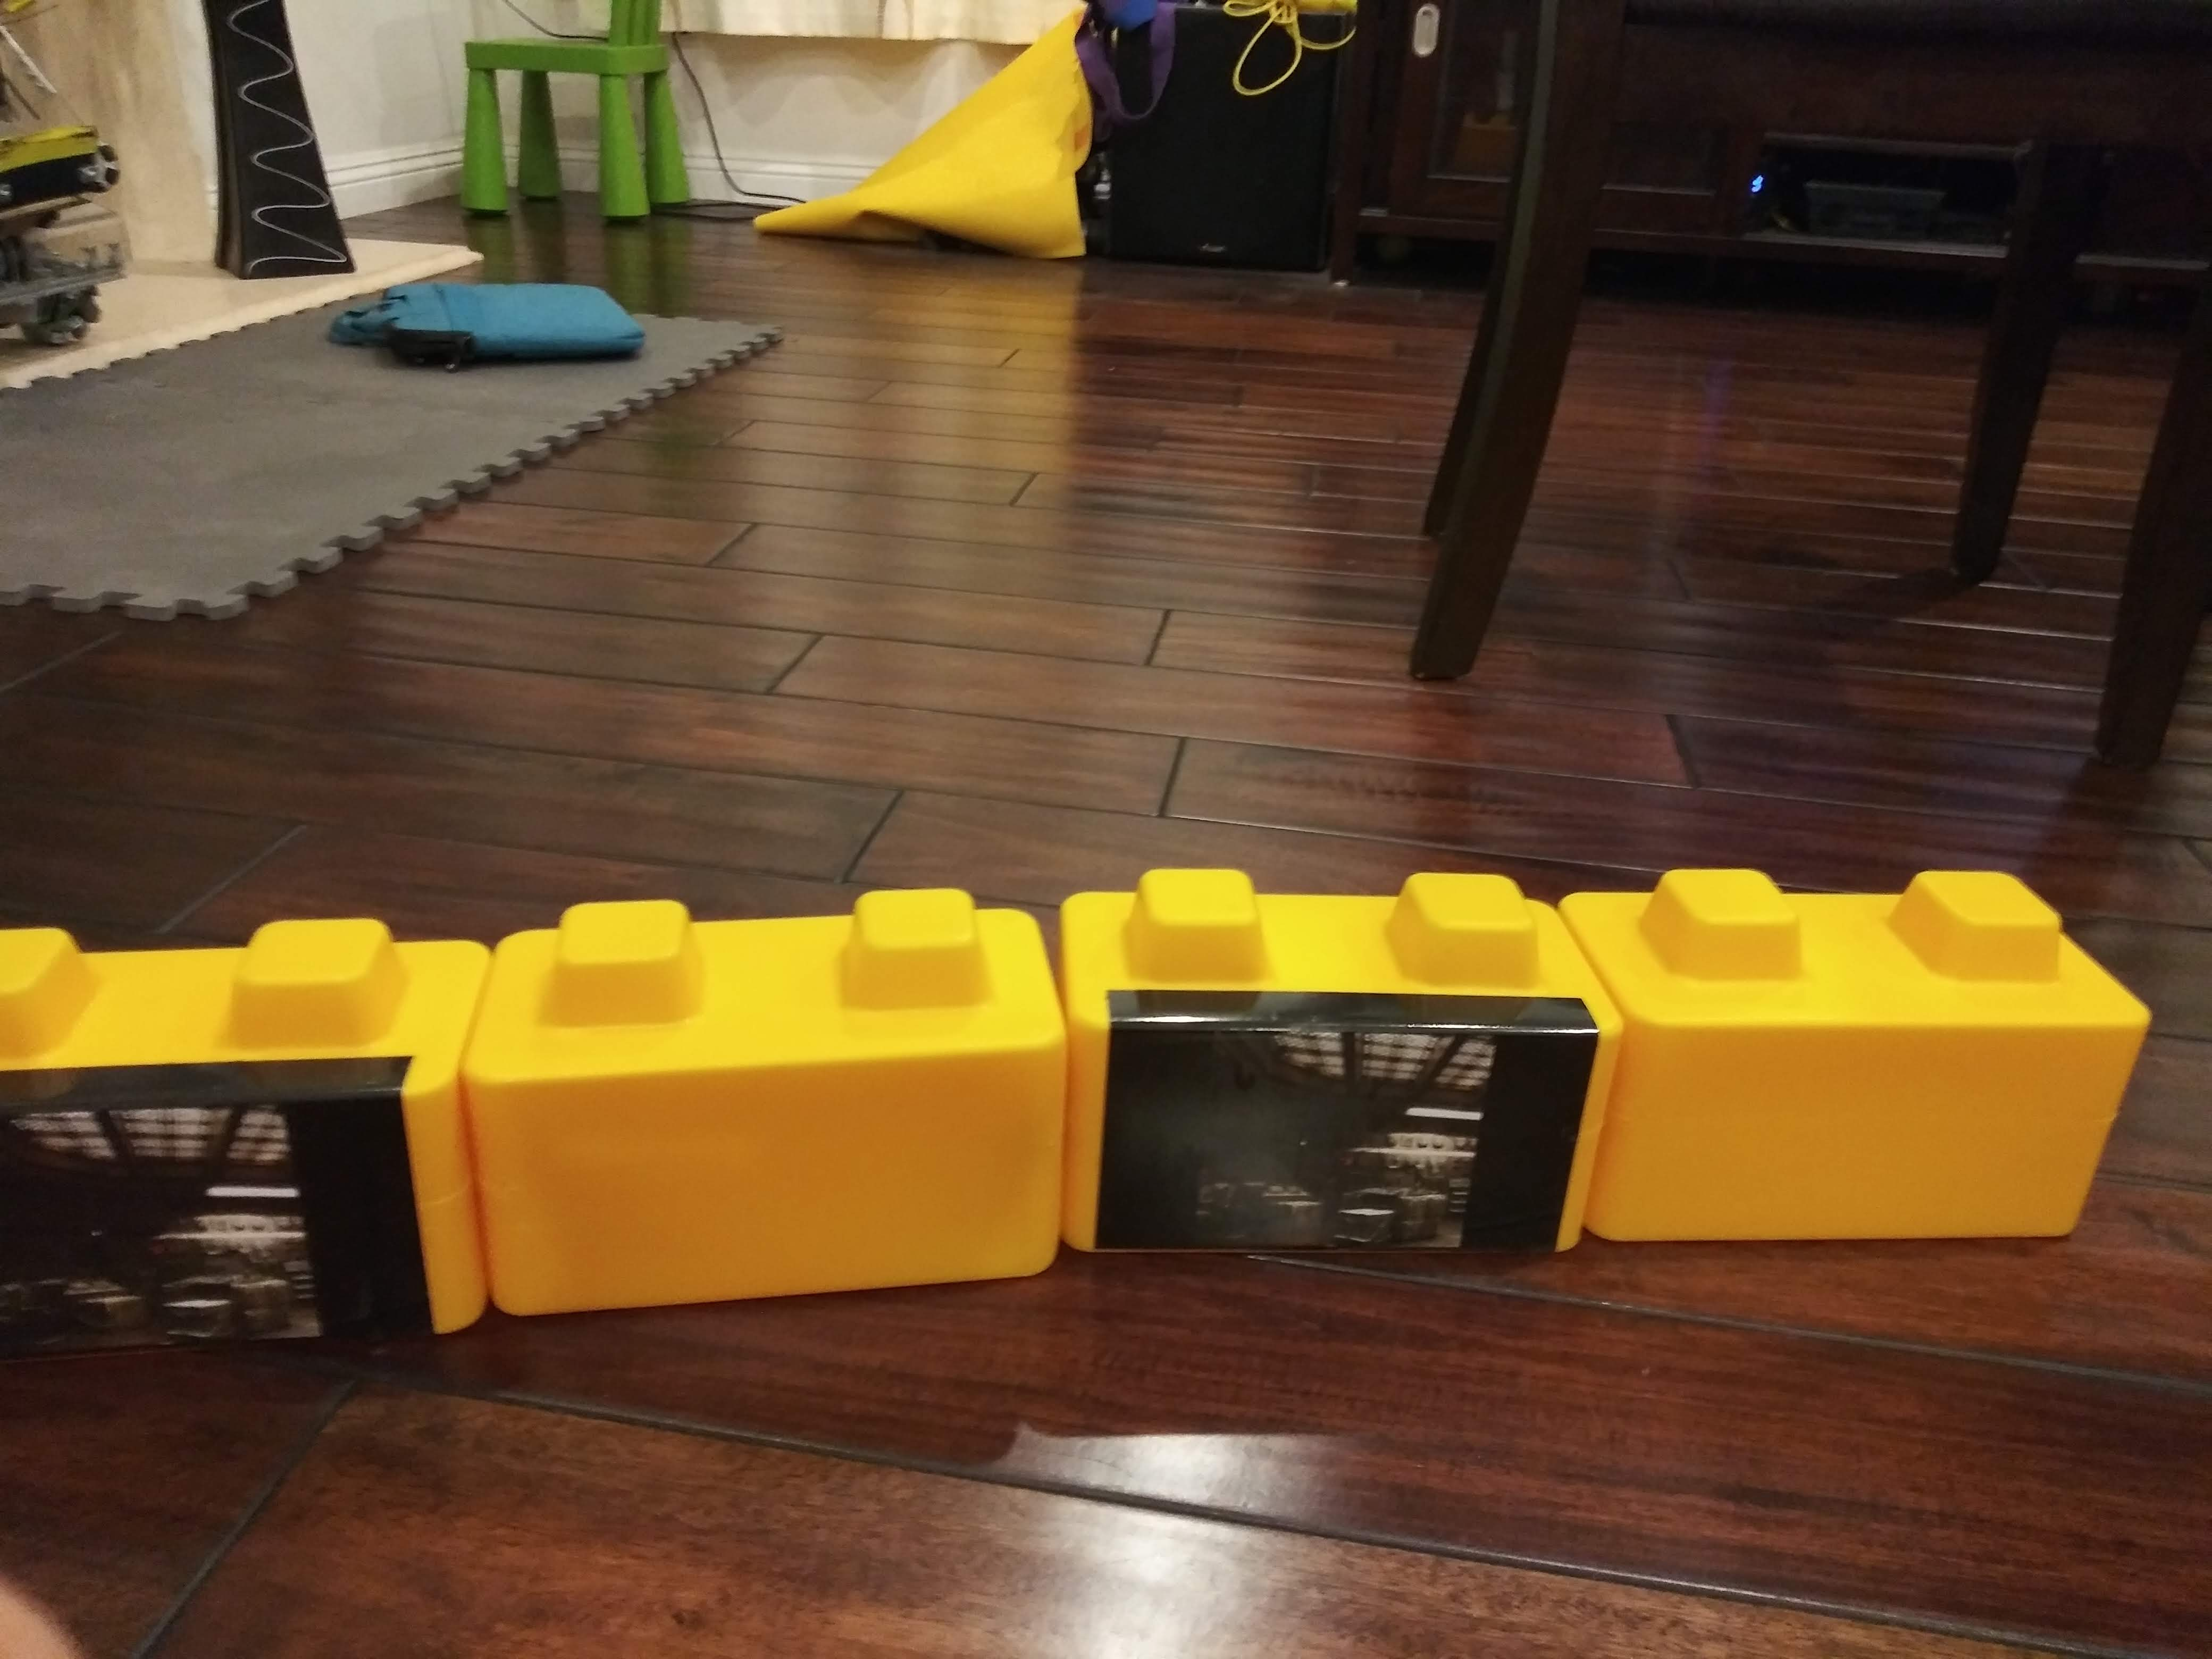skystone: (1082, 920, 1588, 1283), (35, 960, 444, 1351)
stone: (482, 918, 1045, 1303), (1623, 904, 2114, 1267)
